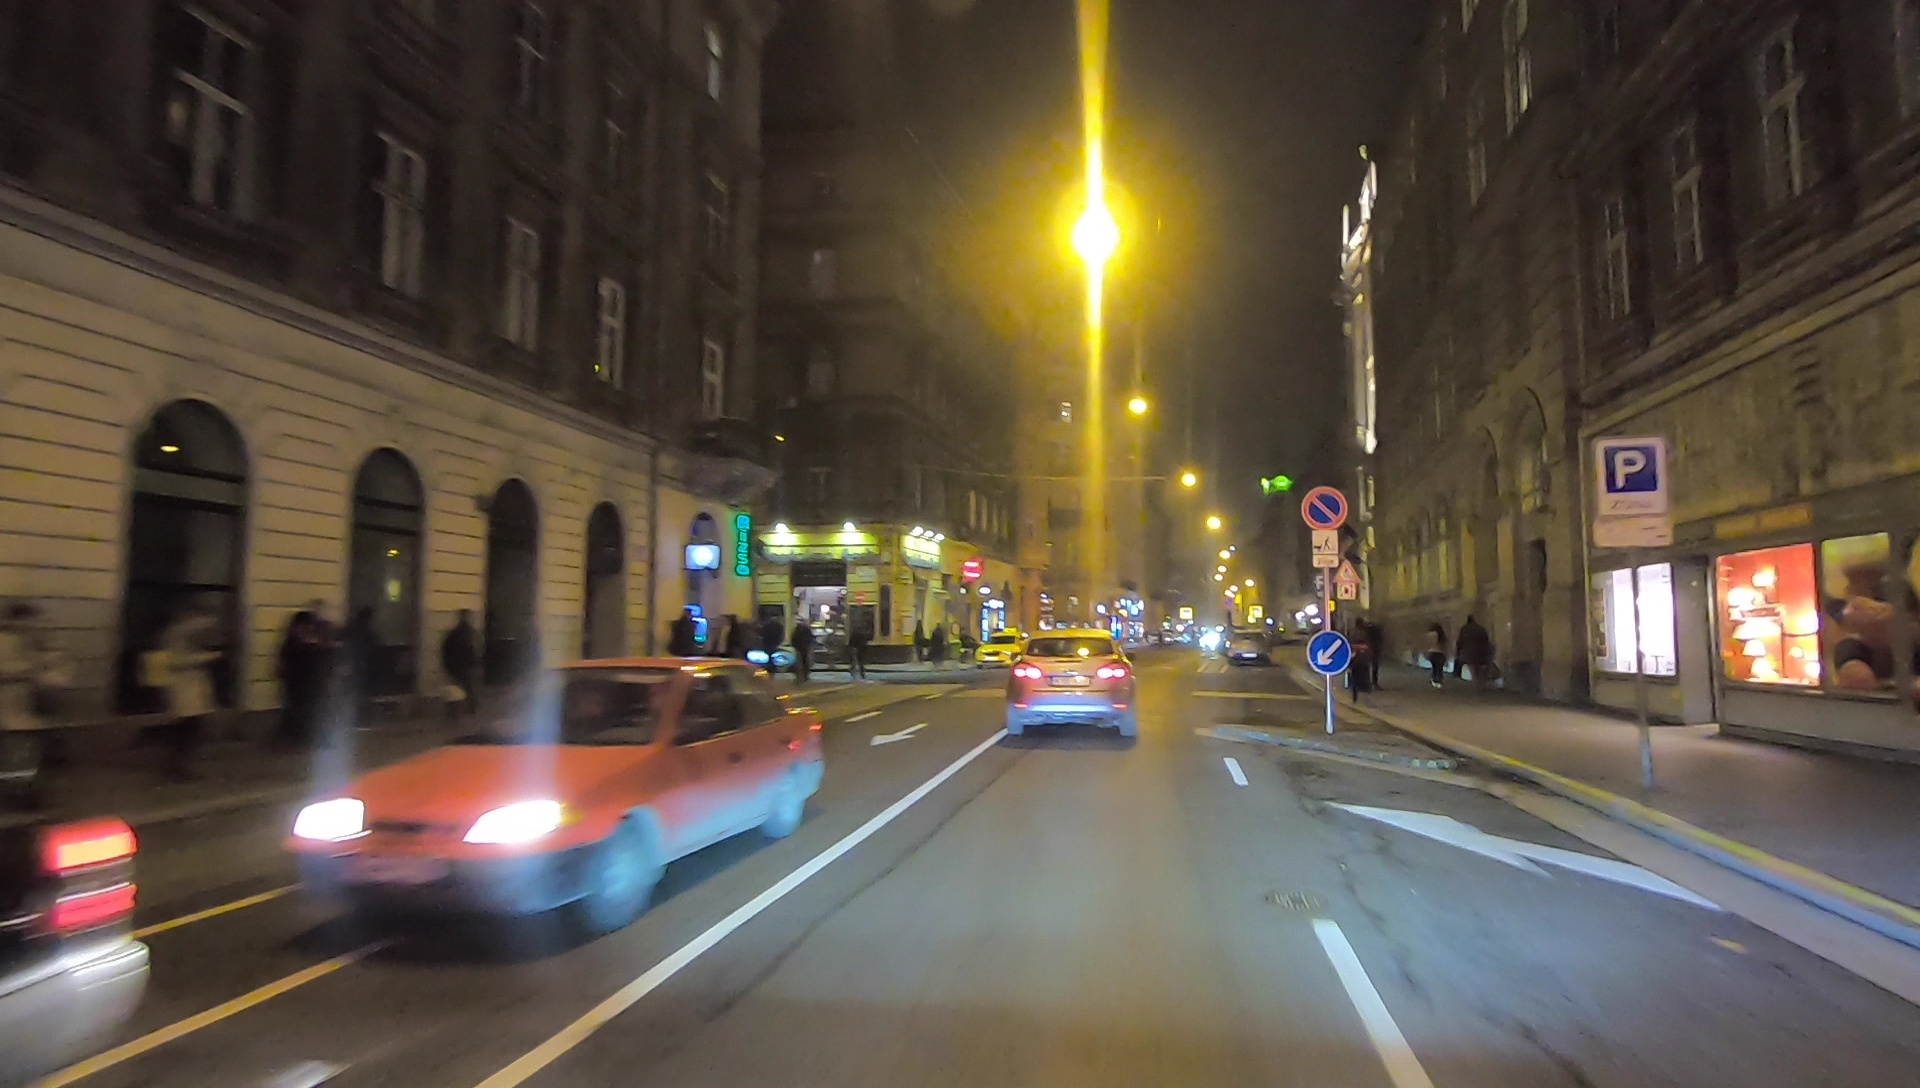person: (1, 597, 84, 787), (158, 610, 215, 769), (280, 602, 330, 774), (443, 608, 482, 723), (1455, 612, 1491, 686), (669, 610, 695, 695), (1360, 617, 1384, 685), (1425, 618, 1448, 689), (789, 621, 810, 687), (763, 618, 785, 674), (845, 623, 865, 680), (732, 621, 745, 699), (926, 623, 944, 662)
